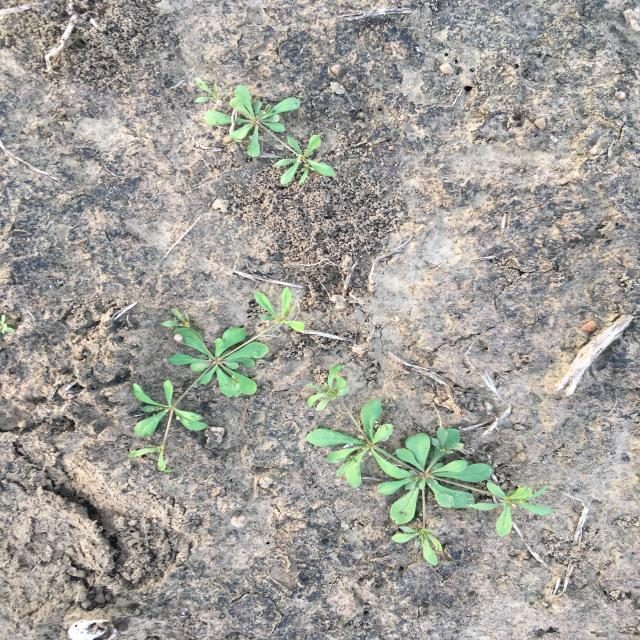Carpetweed: (304, 364, 556, 568), (126, 286, 308, 474), (192, 77, 337, 186)
